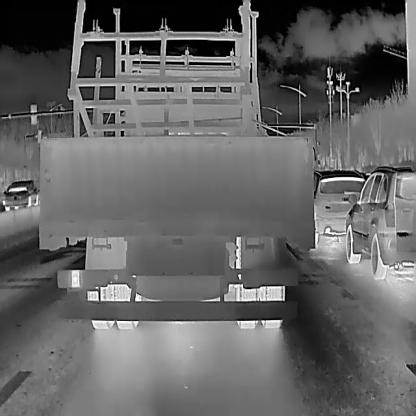car: (342, 163, 416, 281), (304, 166, 366, 249), (1, 177, 37, 210)
truck: (34, 53, 314, 330)
